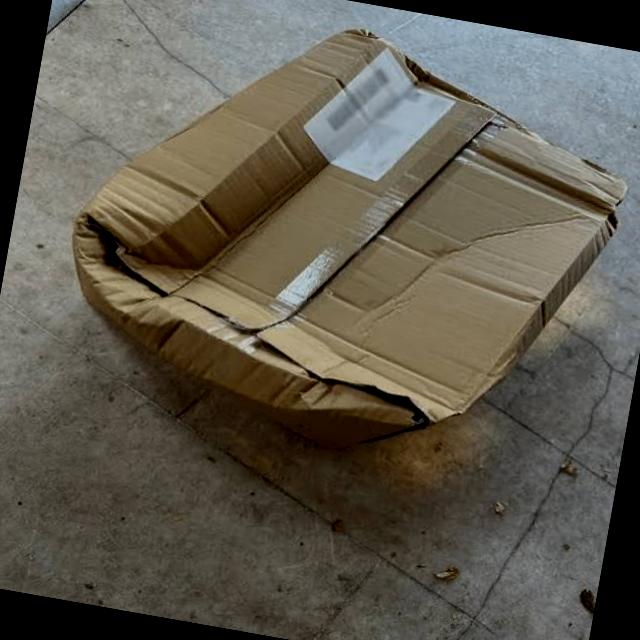package_damage: (71, 197, 499, 452), (302, 11, 547, 304), (566, 142, 640, 238)
